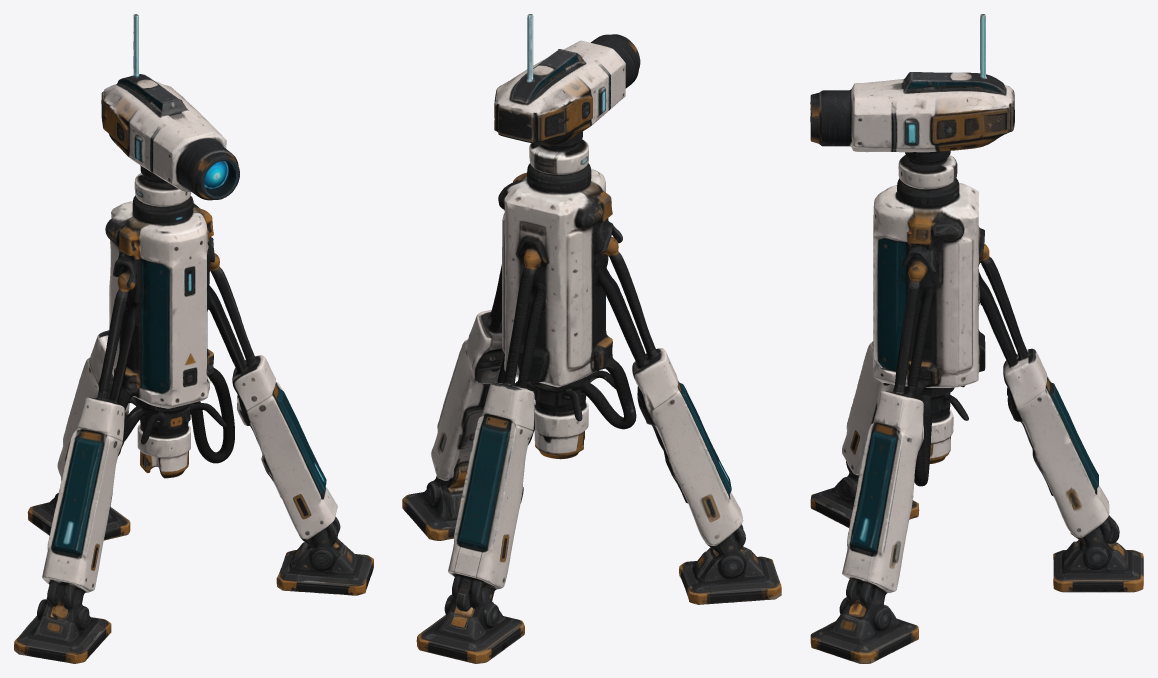
Rendered from baliza.glb.
3 renders of one model, left to right at view 1: azimuth 30°, elevation 25°; view 2: azimuth 150°, elevation 25°; view 3: azimuth 270°, elevation 25°, orthographic. The views are drawn at different scales.
Visible parts, largest first — view 1: Mesh_0; view 2: Mesh_0; view 3: Mesh_0.
Boxes of the visible parts, <box> form: Mesh_0: <box>14,14,373,663</box>; Mesh_0: <box>402,14,781,663</box>; Mesh_0: <box>810,14,1143,663</box>.
Bounding box in the file's own units: 1.28 × 1.9 × 1.02.
1 material, 1 textured.
